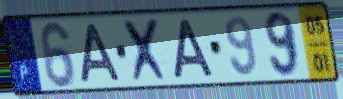6: (39, 18, 77, 90)
9: (261, 8, 301, 80), (223, 15, 258, 78)
A: (172, 17, 217, 81), (79, 22, 124, 85)
X: (120, 16, 172, 85)
